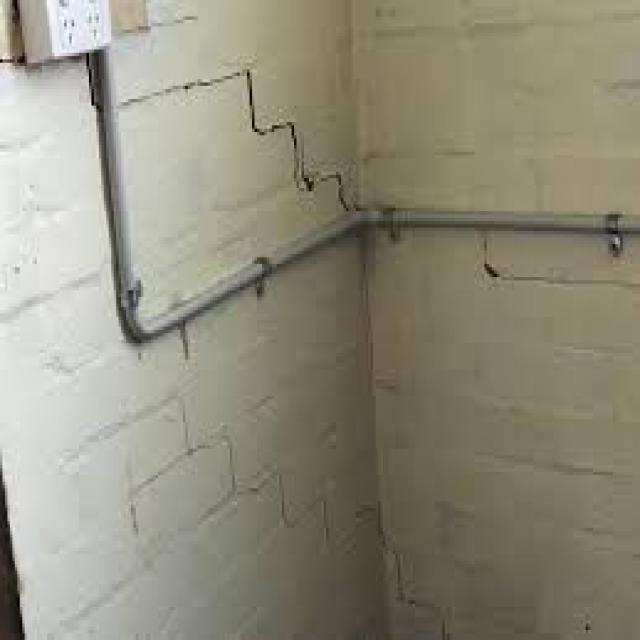Crack: (126, 399, 450, 637), (112, 63, 354, 208)
